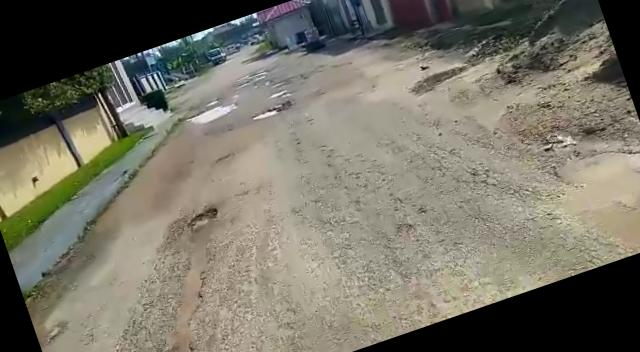pothole: (187, 97, 237, 126), (184, 204, 222, 232), (248, 102, 288, 124)
